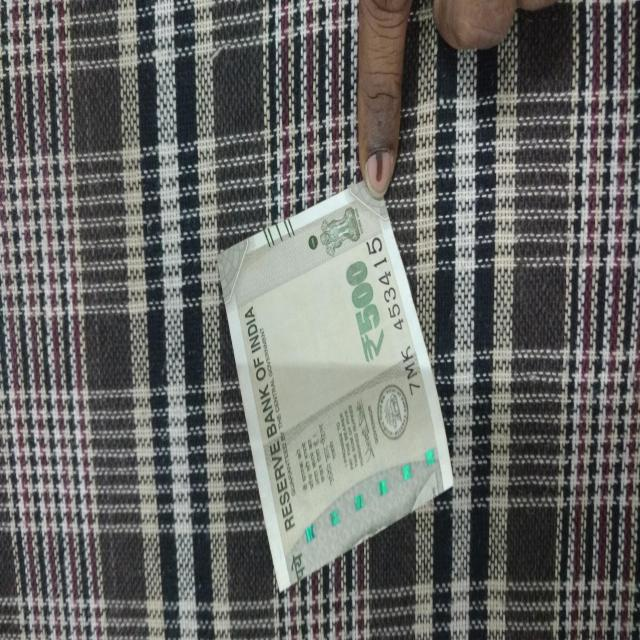Currency: (211, 203, 454, 584)
